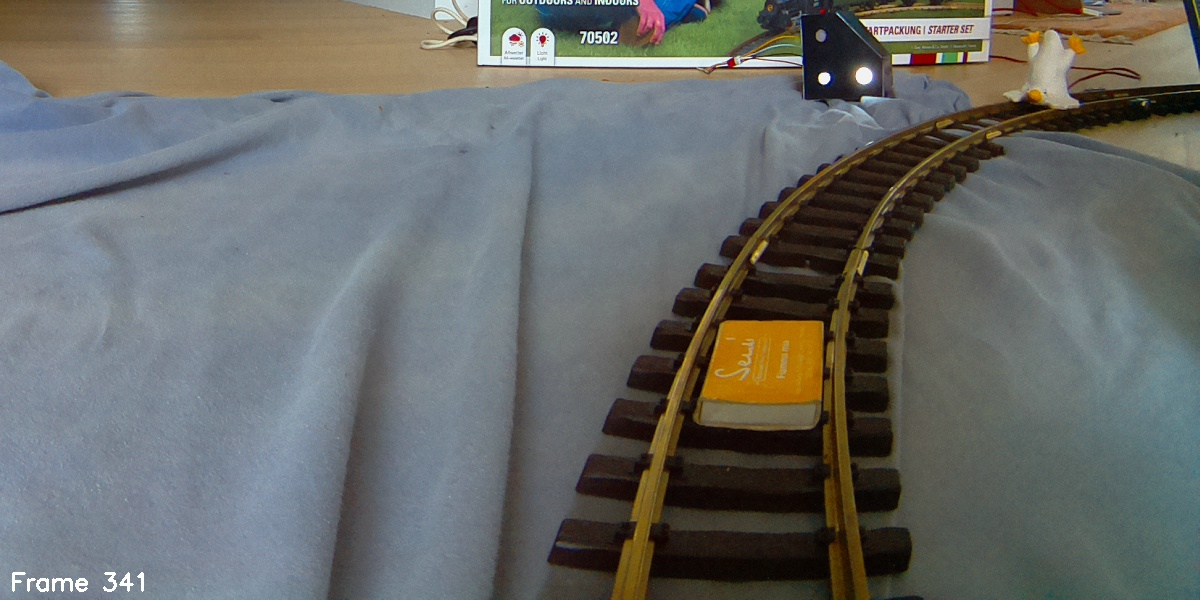Ente: (1003, 30, 1088, 114)
Halt: (798, 7, 891, 95)
